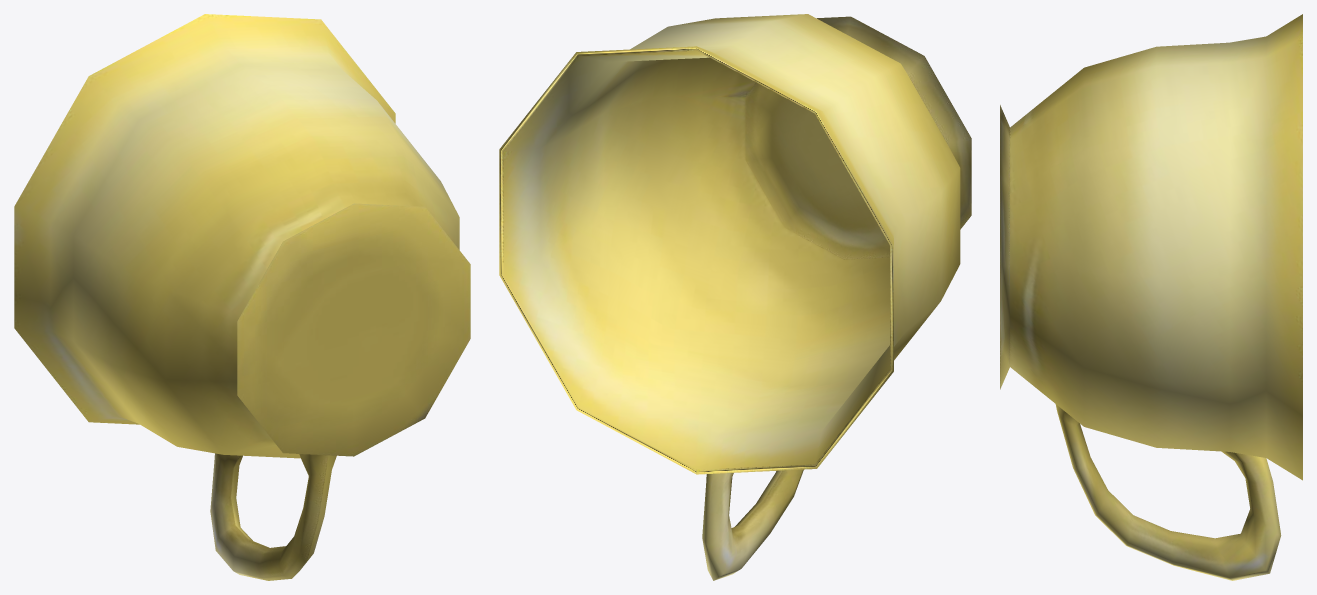
File: Teacup Fin.FBX
3 views of the same model, side by side, from view 1: azimuth 30°, elevation 25°; view 2: azimuth 150°, elevation 25°; view 3: azimuth 270°, elevation 25° (orthographic). The views are drawn at different scales.
Visible parts, largest first — view 1: Teacup; view 2: Teacup; view 3: Teacup.
Boxes of the visible parts, x1,y1,x2,y2 form: Teacup: [14, 14, 470, 580]; Teacup: [499, 14, 971, 580]; Teacup: [1000, 14, 1302, 580].
Size of the model in its own units: 12.41 by 16.64 by 8.4.
1 material, 1 textured.
